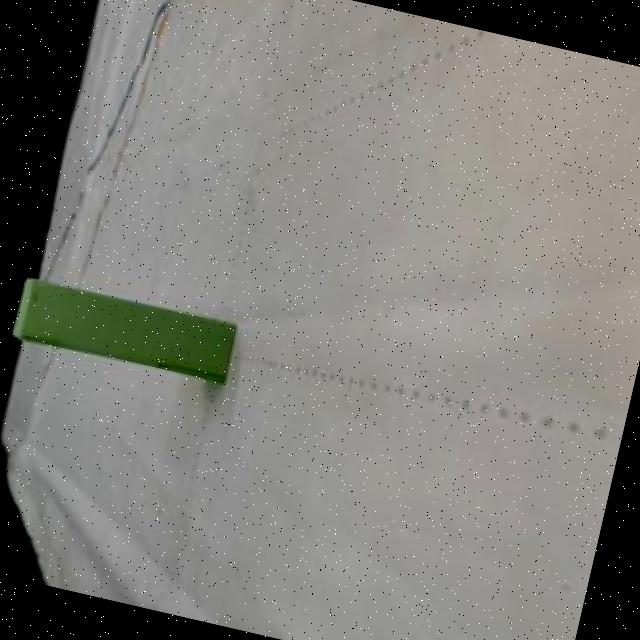greenbox: (7, 273, 240, 388)
